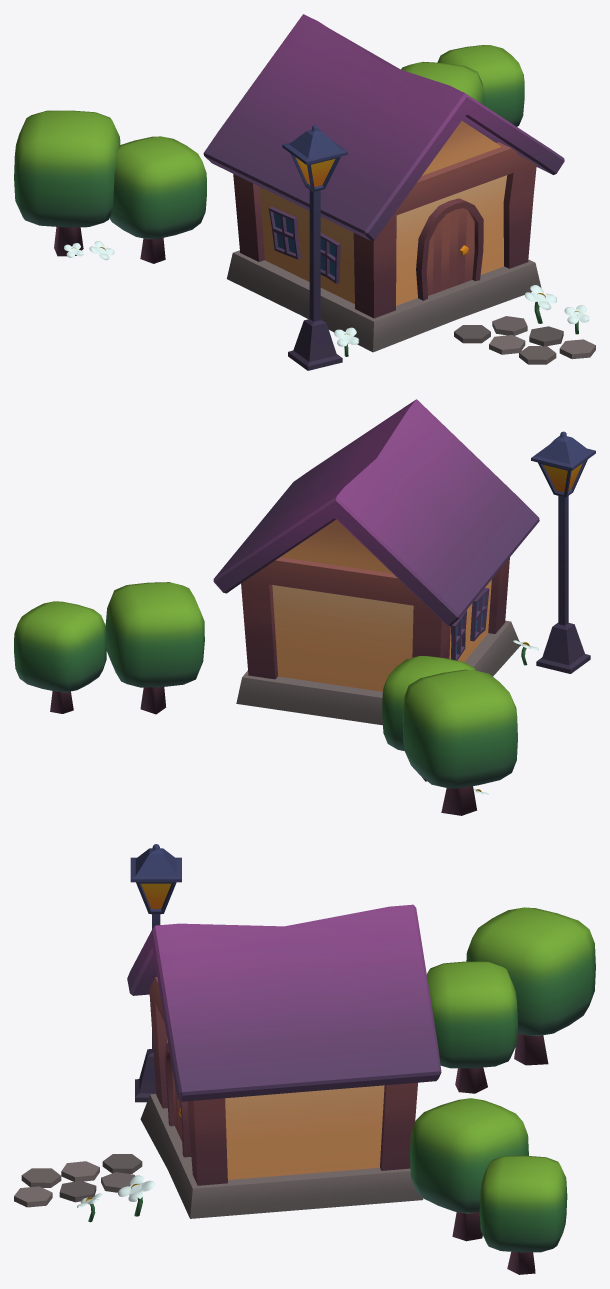
File: village_full_house.gltf
The picture shows the model from 3 angles, top to bottom: view 1: azimuth 30°, elevation 25°; view 2: azimuth 150°, elevation 25°; view 3: azimuth 270°, elevation 25°; orthographic projection. The views are drawn at different scales.
Visible parts, largest first — view 1: House.003_Material.005_0 (×24), TreeSquare.005_Material.005_0 (×2), TreeSquare.008_Material.005_0 (×2), TreeSquare.010_Material.005_0, TreeSquare.009_Material.005_0, Cube.057_Material.005_0 (×2); view 2: House.003_Material.005_0 (×13), TreeSquare.005_Material.005_0 (×2), TreeSquare.009_Material.005_0 (×2), TreeSquare.010_Material.005_0, TreeSquare.008_Material.005_0, Cube.057_Material.005_0; view 3: House.003_Material.005_0 (×13), TreeSquare.005_Material.005_0 (×2), TreeSquare.009_Material.005_0 (×2), TreeSquare.008_Material.005_0 (×2), TreeSquare.010_Material.005_0 (×2).
Part boxes in pixels (x1,y1,x2,y2): House.003_Material.005_0 (×24): [204, 14, 564, 352]; TreeSquare.005_Material.005_0 (×2): [14, 110, 120, 256]; TreeSquare.008_Material.005_0 (×2): [109, 136, 206, 263]; TreeSquare.010_Material.005_0: [437, 45, 524, 126]; TreeSquare.009_Material.005_0: [401, 61, 485, 105]; Cube.057_Material.005_0 (×2): [313, 190, 320, 321]; House.003_Material.005_0 (×13): [214, 399, 538, 725]; TreeSquare.005_Material.005_0 (×2): [402, 669, 517, 815]; TreeSquare.009_Material.005_0 (×2): [105, 582, 204, 714]; TreeSquare.010_Material.005_0: [14, 601, 106, 692]; TreeSquare.008_Material.005_0: [382, 656, 475, 750]; Cube.057_Material.005_0: [558, 496, 564, 625]; House.003_Material.005_0 (×13): [127, 904, 439, 1218]; TreeSquare.005_Material.005_0 (×2): [466, 907, 595, 1065]; TreeSquare.009_Material.005_0 (×2): [410, 1098, 528, 1241]; TreeSquare.008_Material.005_0 (×2): [427, 961, 517, 1093]; TreeSquare.010_Material.005_0 (×2): [479, 1155, 567, 1274].
Bounding box in the file's own units: 4.3 × 2.01 × 4.1.
1 material, 1 textured.
